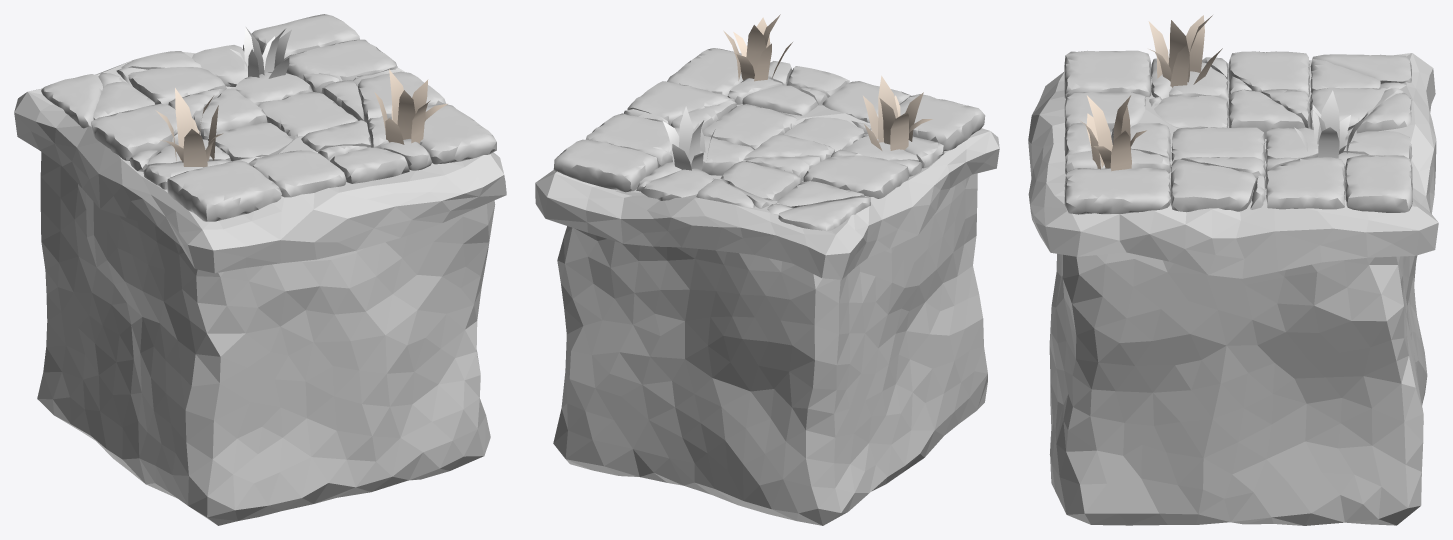
The model's file is Safezone_01.fbx.
The picture shows the model from 3 angles, left to right: view 1: azimuth 30°, elevation 25°; view 2: azimuth 150°, elevation 25°; view 3: azimuth 270°, elevation 25°; orthographic projection. The views are drawn at different scales.
Parts seen in each view (by area): view 1: dirt, bricks, grass, grass_cards; view 2: dirt, bricks, grass, grass_cards; view 3: dirt, bricks, grass, grass_cards.
Boxes of the visible parts, bbox=[...] form: dirt: bbox=[37, 87, 495, 525]; bricks: bbox=[41, 14, 496, 221]; grass: bbox=[14, 52, 506, 273]; grass_cards: bbox=[155, 27, 447, 167]; dirt: bbox=[553, 173, 987, 525]; bricks: bbox=[553, 48, 985, 230]; grass: bbox=[535, 95, 999, 279]; grass_cards: bbox=[653, 14, 932, 170]; dirt: bbox=[1049, 176, 1427, 525]; bricks: bbox=[1064, 50, 1412, 214]; grass: bbox=[1028, 53, 1438, 278]; grass_cards: bbox=[1080, 15, 1366, 171].
Bounding box in the file's own units: 5.74 × 6.33 × 5.91.
